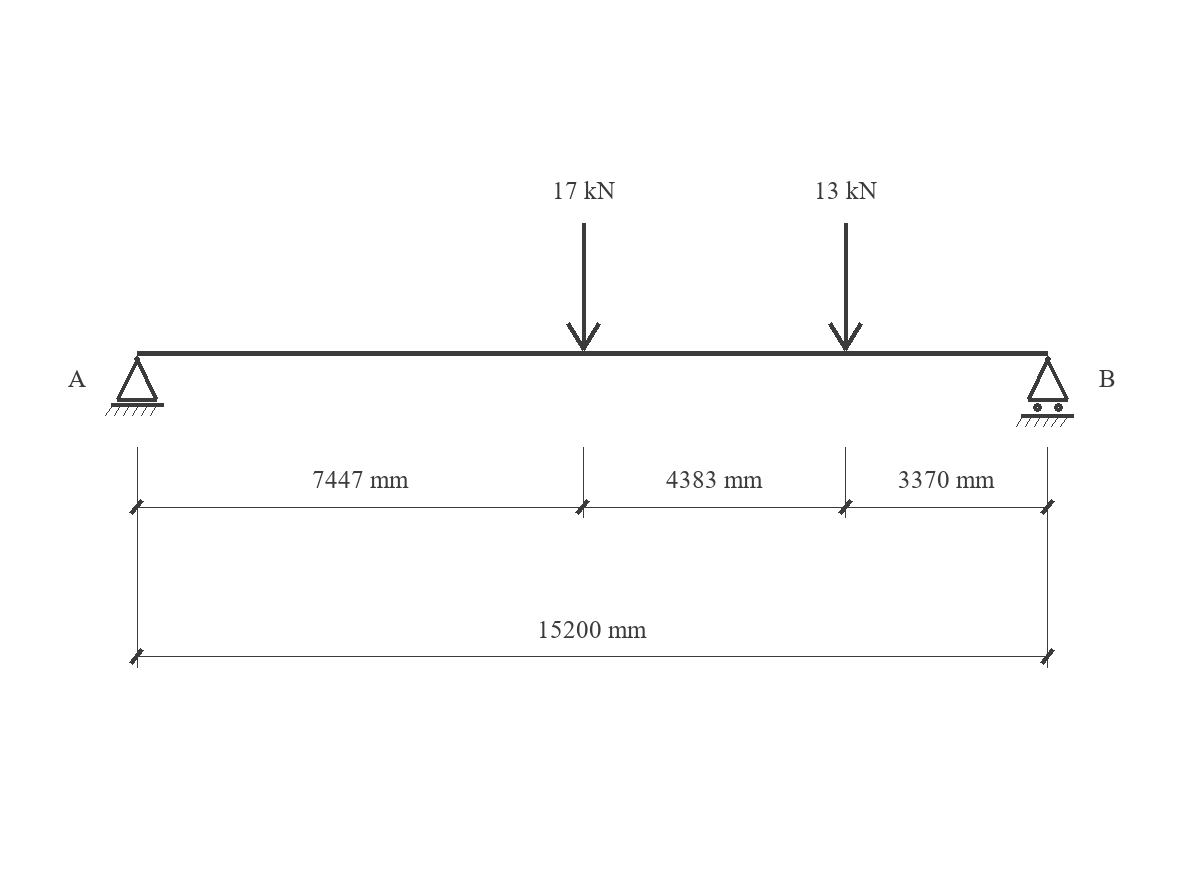pin_support: (105, 356, 164, 416)
point_load: (566, 223, 601, 351), (828, 223, 863, 351)
roller_support: (1016, 356, 1074, 427)
